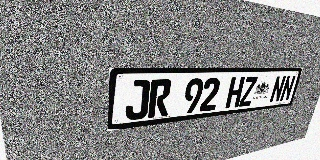2: (199, 78, 221, 112)
9: (182, 78, 205, 114)
H: (225, 77, 245, 109)
J: (125, 80, 150, 121)
N: (269, 76, 286, 103), (279, 75, 296, 102)
R: (148, 79, 172, 118)
Z: (239, 76, 258, 107)
